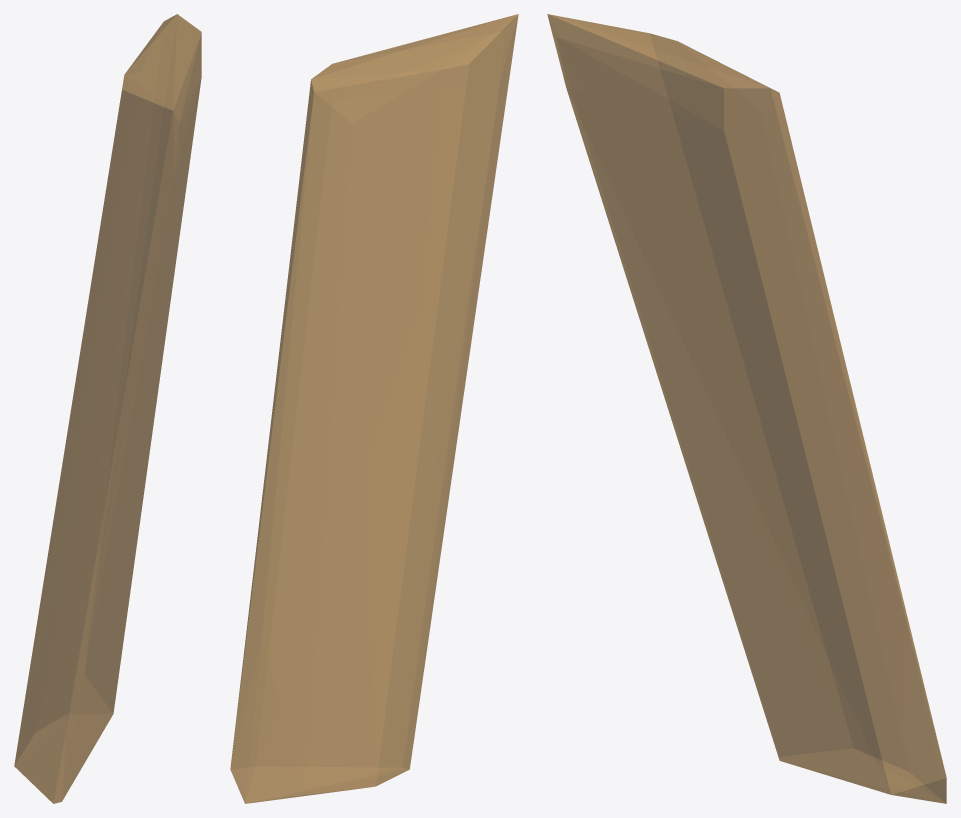
3 views of the same model, side by side, from view 1: azimuth 30°, elevation 25°; view 2: azimuth 150°, elevation 25°; view 3: azimuth 270°, elevation 25° (orthographic). The views are drawn at different scales.
Parts seen in each view (by area): view 1: Shape_IndexedFaceSet.086_Shape_IndexedFaceSet.9894; view 2: Shape_IndexedFaceSet.086_Shape_IndexedFaceSet.9894; view 3: Shape_IndexedFaceSet.086_Shape_IndexedFaceSet.9894.
Part boxes in pixels (<box>): Shape_IndexedFaceSet.086_Shape_IndexedFaceSet.9894: <box>14,14,201,803</box>; Shape_IndexedFaceSet.086_Shape_IndexedFaceSet.9894: <box>230,14,518,803</box>; Shape_IndexedFaceSet.086_Shape_IndexedFaceSet.9894: <box>547,14,946,803</box>.
Size of the model in its own units: 0.0815 by 0.5004 by 0.2444.
